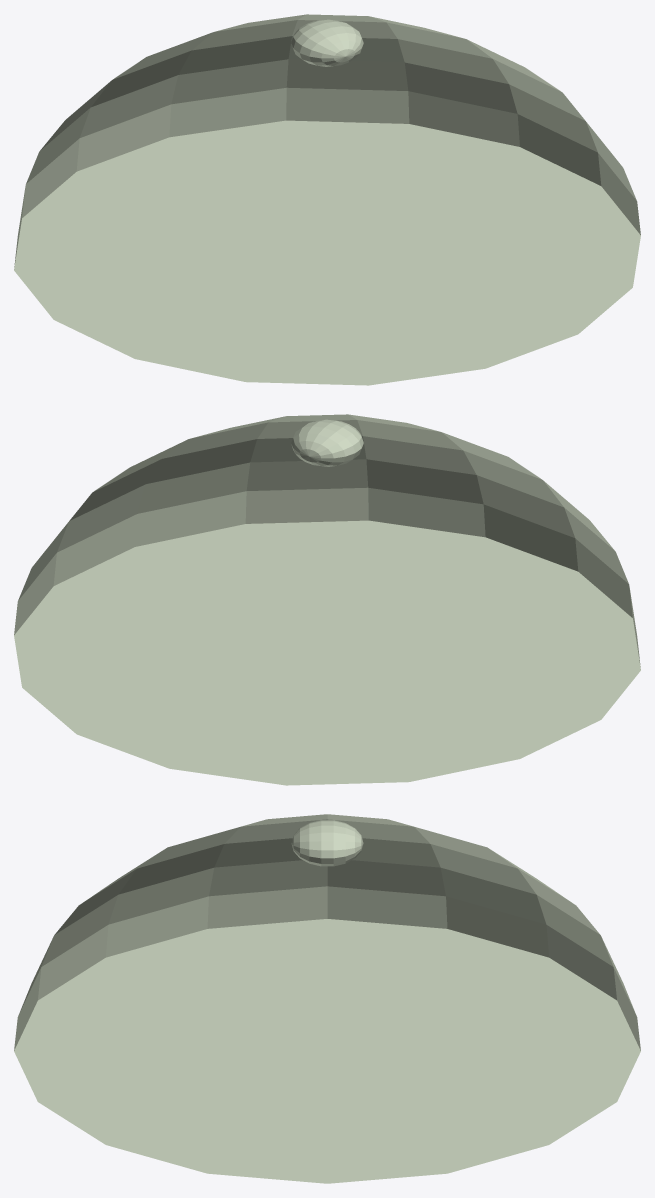
The model's file is stem_knob.glb.
3 renders of one model, top to bottom at view 1: azimuth 30°, elevation 25°; view 2: azimuth 150°, elevation 25°; view 3: azimuth 270°, elevation 25°, orthographic.
Visible parts, largest first — view 1: world; view 2: world; view 3: world.
Part boxes in pixels (x1,y1,x2,y2): world: (14,14,640,385); world: (14,414,640,785); world: (14,814,640,1183).
Size of the model in its own units: 2 by 0.7943 by 2.
